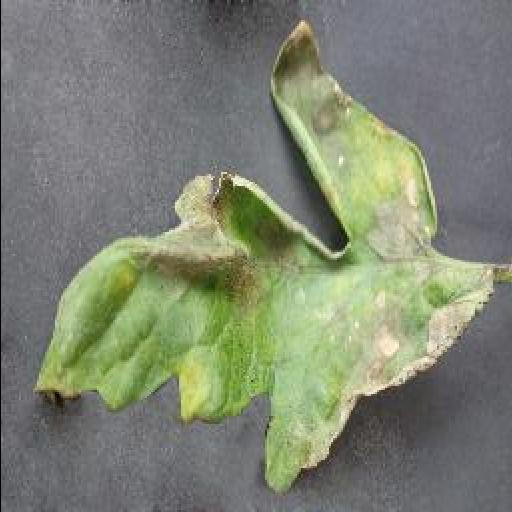disease_tomato: (30, 18, 494, 496)
